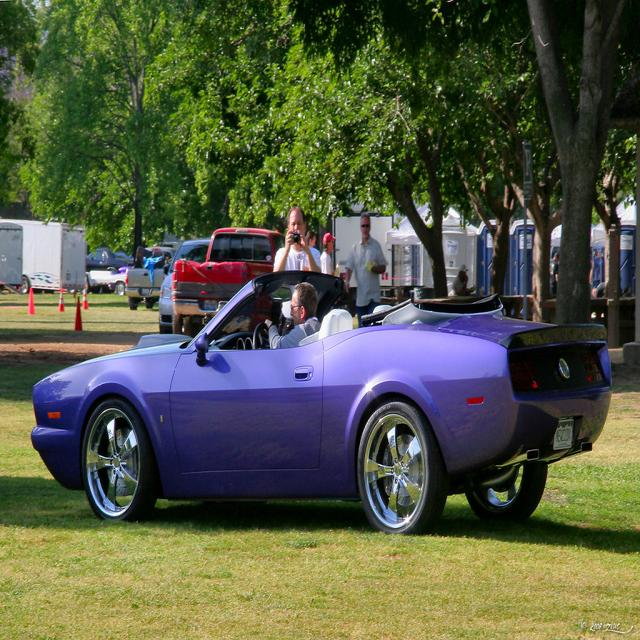car: (34, 271, 608, 535)
